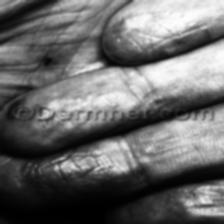Non-Cancerous Skin Condition: (90, 0, 203, 66), (4, 148, 152, 192), (122, 208, 224, 224)
